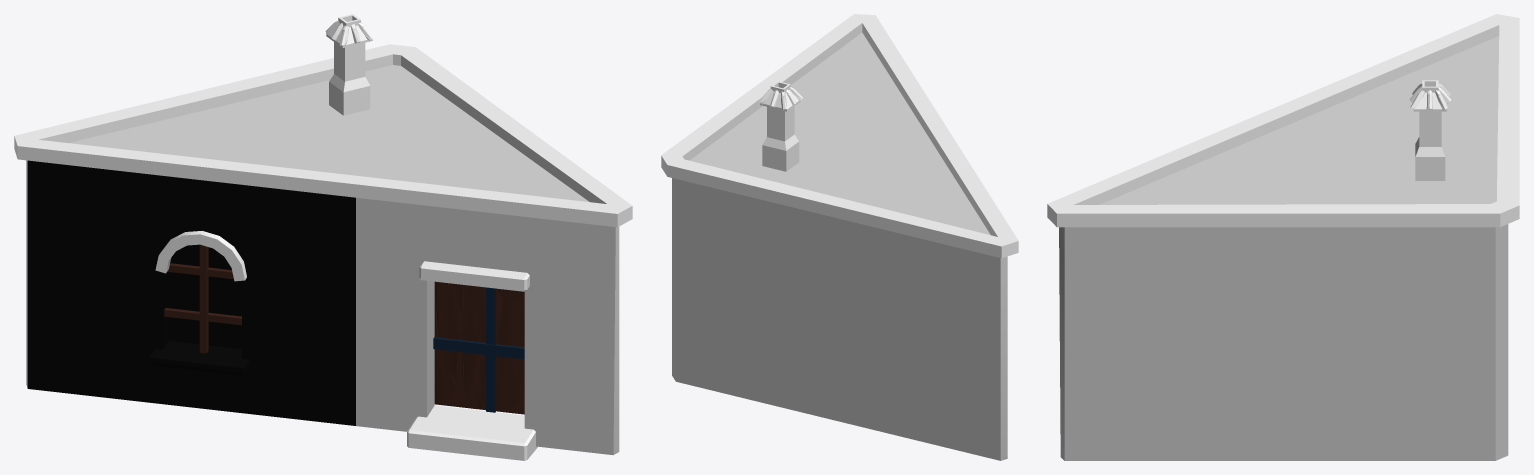
File: civilian_house_40_b.FBX
The picture shows the model from 3 angles, left to right: view 1: azimuth 30°, elevation 25°; view 2: azimuth 150°, elevation 25°; view 3: azimuth 270°, elevation 25°; orthographic projection. The views are drawn at different scales.
Visible parts, largest first — view 1: civilian_house_40_b; view 2: civilian_house_40_b; view 3: civilian_house_40_b.
Boxes of the visible parts, x1=… form: civilian_house_40_b: x1=14, y1=14, x2=632, y2=460; civilian_house_40_b: x1=661, y1=14, x2=1018, y2=460; civilian_house_40_b: x1=1047, y1=14, x2=1519, y2=460.
Size of the model in its own units: 621 by 490 by 621.
